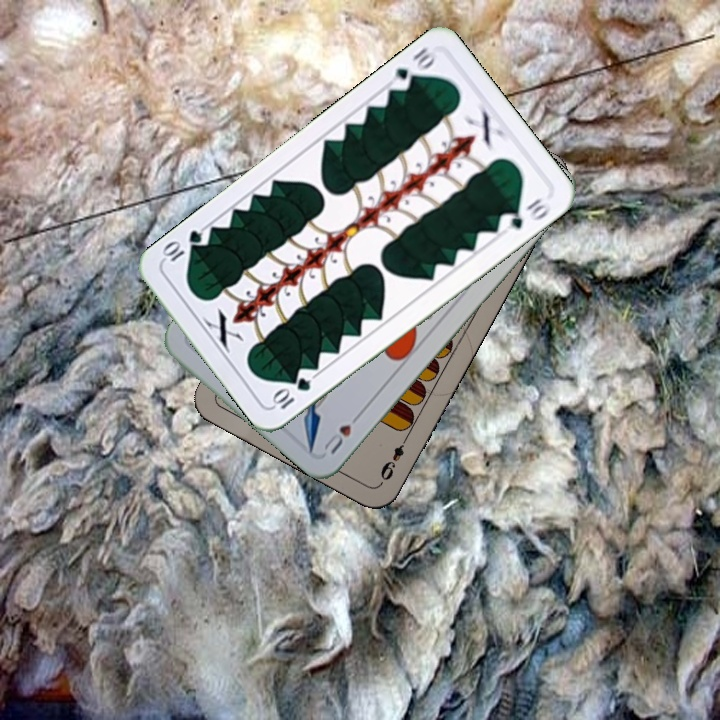E9: (376, 432, 411, 486)
G10: (385, 43, 440, 94), (268, 373, 314, 412)
HU: (319, 408, 365, 457)
